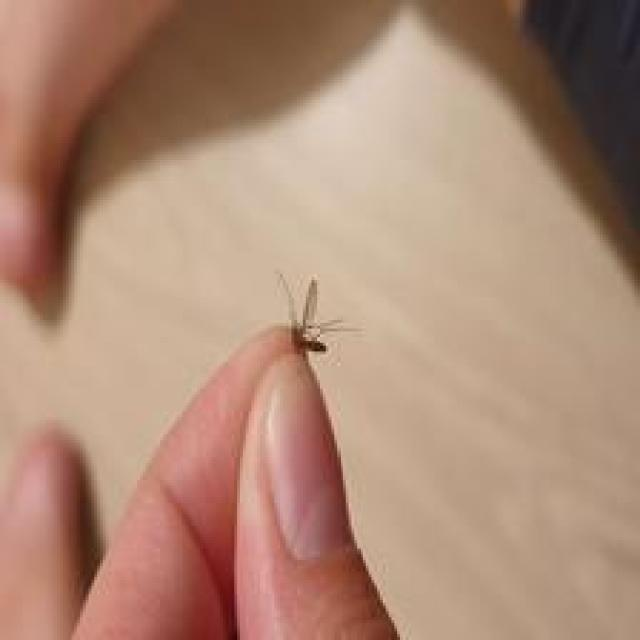Culex: (276, 271, 361, 360)
